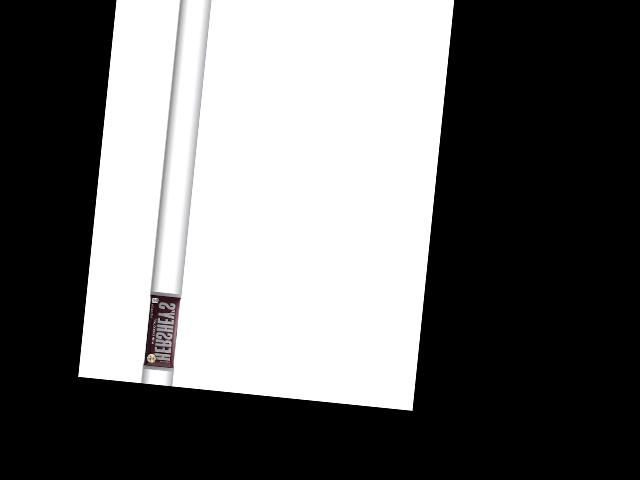chocolate: (139, 291, 180, 370)
